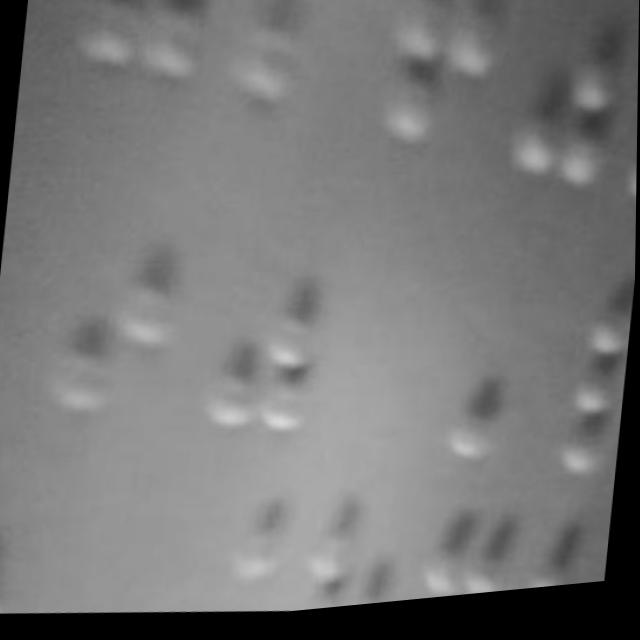braiile: (46, 188, 191, 430), (200, 211, 338, 460), (496, 0, 637, 221), (447, 281, 564, 490), (372, 0, 513, 169), (232, 0, 352, 127), (295, 516, 402, 617), (411, 529, 521, 608)
